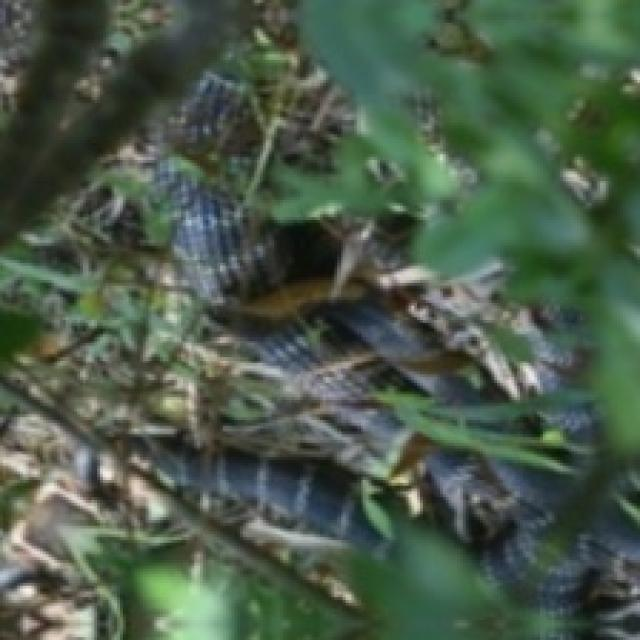king cobra: (0, 51, 637, 637), (271, 134, 389, 223)
